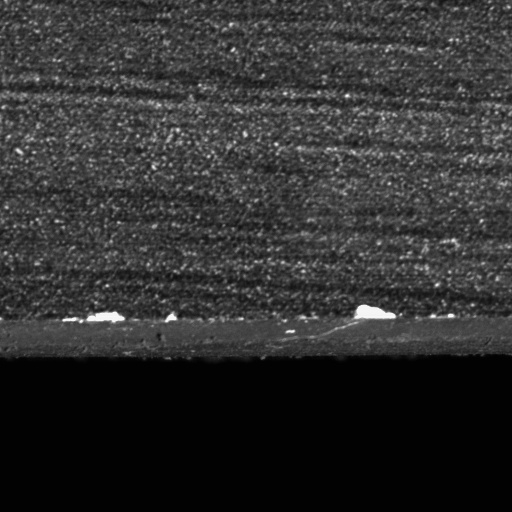huashang: (353, 302, 396, 321), (83, 310, 125, 322)
